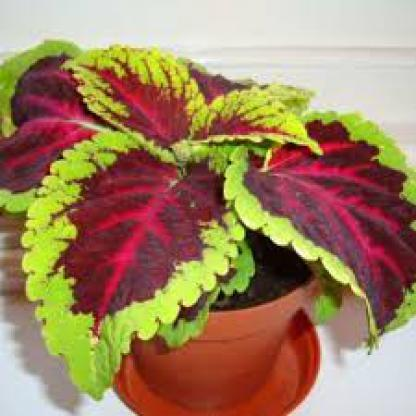Bunga Coleus: (21, 57, 415, 279)
